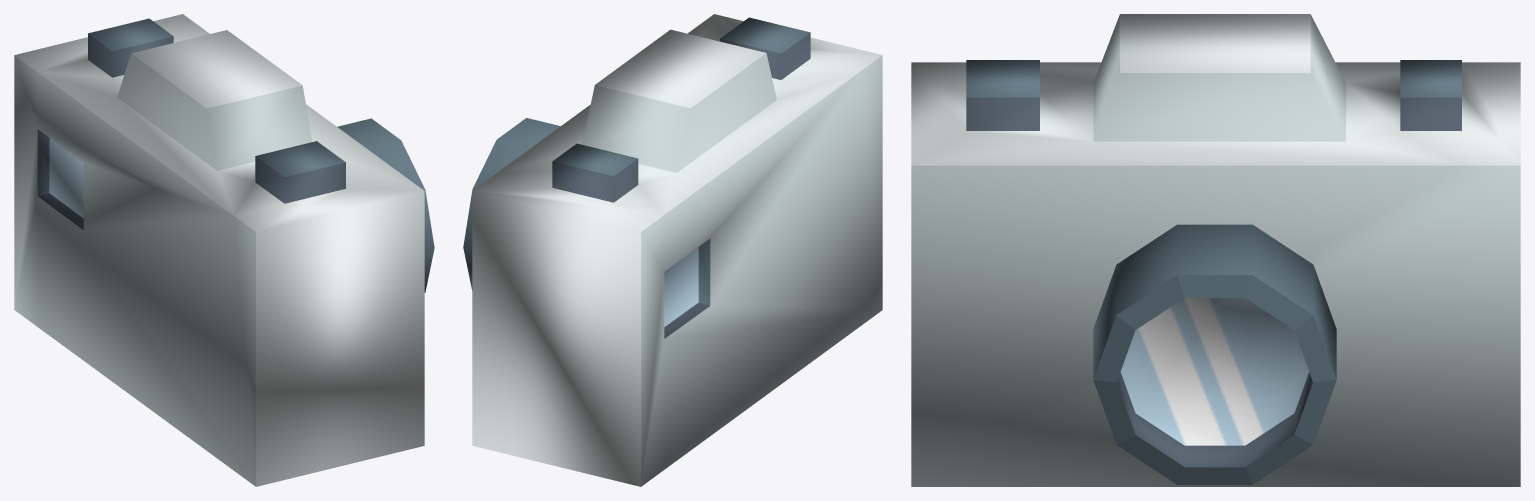
File: camera.glb
The picture shows the model from 3 angles, left to right: view 1: azimuth 30°, elevation 25°; view 2: azimuth 150°, elevation 25°; view 3: azimuth 270°, elevation 25°; orthographic projection. The views are drawn at different scales.
Visible parts, largest first — view 1: Cube; view 2: Cube; view 3: Cube.
Part boxes in pixels (left/top/right/bottom): Cube: left=14, top=14, right=434, bottom=486; Cube: left=463, top=14, right=882, bottom=486; Cube: left=911, top=14, right=1520, bottom=486.
Bounding box in the file's own units: 0.2037 × 0.2364 × 0.3347.
Materials: 1 (1 with a texture image).
